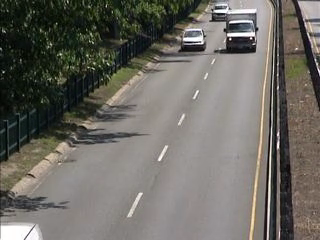car: (180, 28, 209, 54), (211, 2, 232, 21)
truck: (224, 8, 261, 56)
